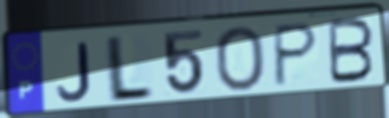5: (160, 30, 207, 97)
B: (327, 16, 376, 86)
J: (55, 40, 94, 103)
L: (105, 33, 156, 105)
O: (212, 24, 267, 94)
P: (271, 21, 321, 89)
